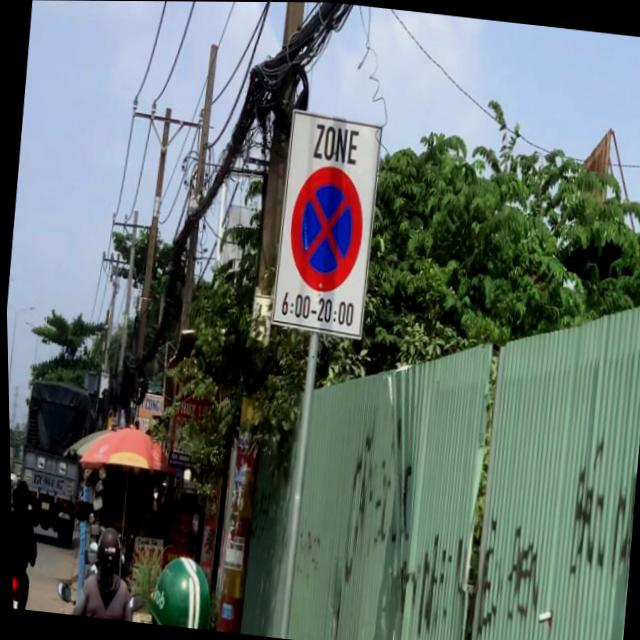Cam dung xe va do xe: (282, 161, 369, 296)
